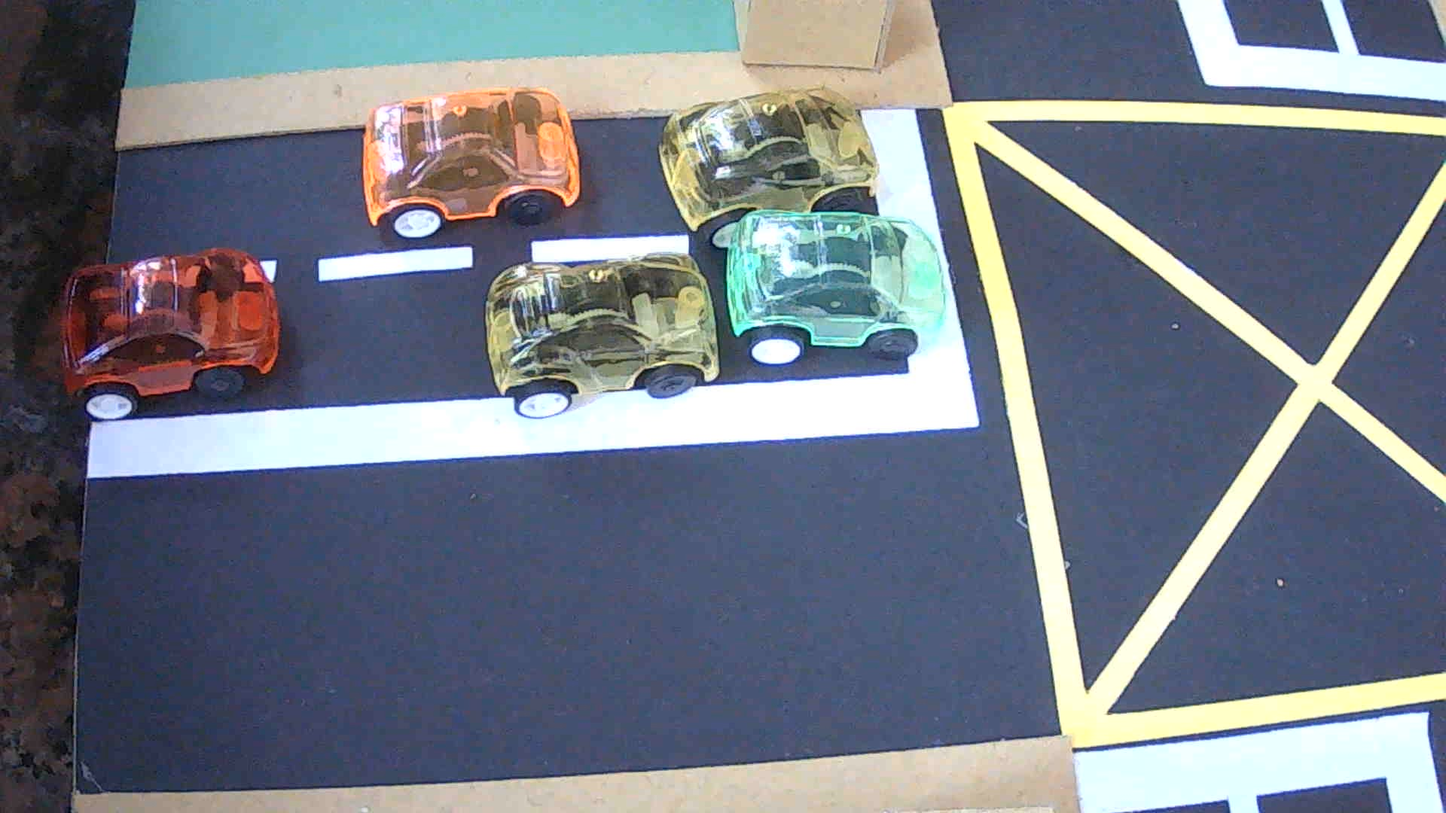Mobil hijau: (726, 210, 944, 364)
Mobil kuning: (487, 253, 718, 417), (659, 87, 877, 250)
Mobil merah: (61, 248, 279, 421)
Mobil orange: (362, 87, 579, 239)
